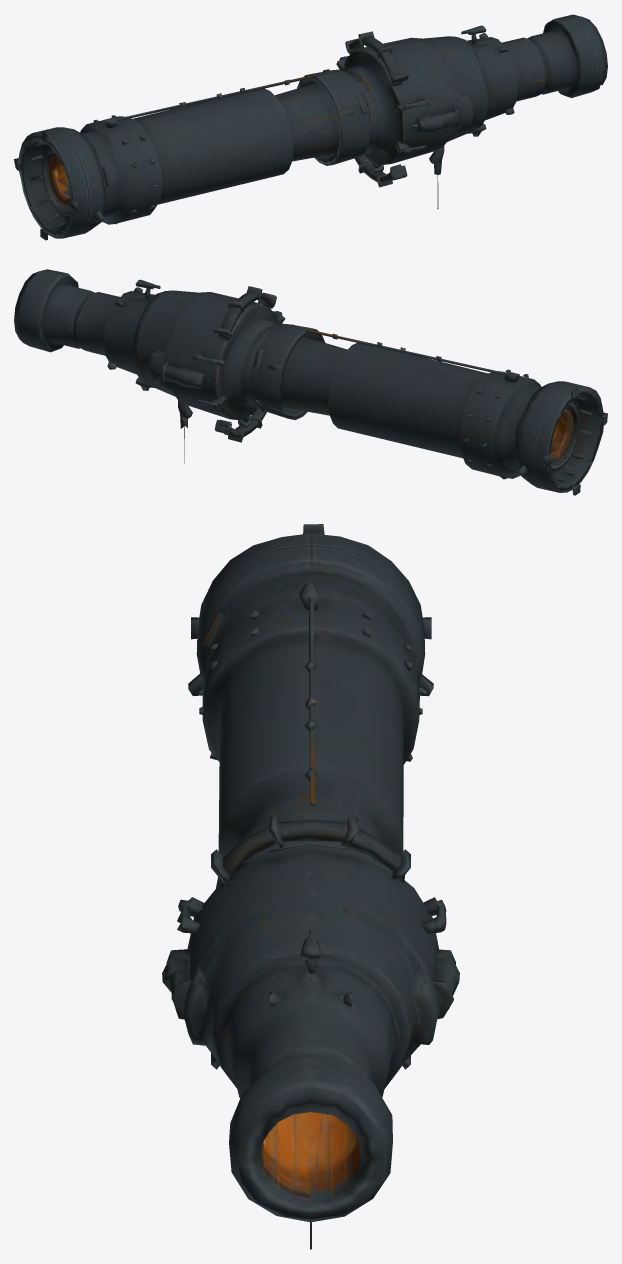
Rendered from reactor-conduit.glb.
3 views of the same model, one above another, from view 1: azimuth 30°, elevation 25°; view 2: azimuth 150°, elevation 25°; view 3: azimuth 270°, elevation 25° (orthographic). The views are drawn at different scales.
Bounding box in the file's own units: 1 × 0.3235 × 0.2362.
1 material, 1 textured.
